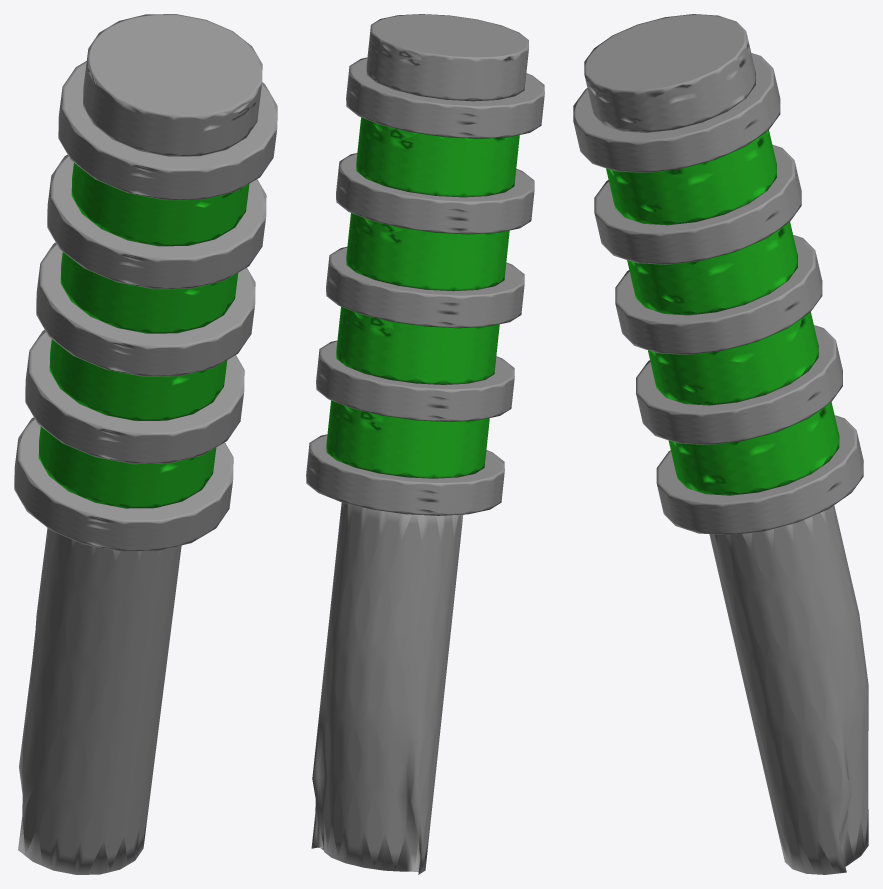
The model's file is Lampara.obj.
3 renders of one model, left to right at view 1: azimuth 30°, elevation 25°; view 2: azimuth 150°, elevation 25°; view 3: azimuth 270°, elevation 25°, orthographic. The views are drawn at different scales.
Parts seen in each view (by area): view 1: Cylinder012, Cylinder022, Cylinder021, Cylinder019, Cylinder017, Cylinder013, Cylinder015, Cylinder020, Cylinder014, Cylinder016, Cylinder018; view 2: Cylinder012, Cylinder022, Cylinder020, Cylinder014, Cylinder016, Cylinder018, Cylinder021, Cylinder013, Cylinder019, Cylinder015, Cylinder017; view 3: Cylinder012, Cylinder022, Cylinder021, Cylinder013, Cylinder019, Cylinder015, Cylinder017, Cylinder020, Cylinder014, Cylinder016, Cylinder018.
Boxes of the visible parts, box(x1,y1,x2,y2) form: Cylinder012: box(18, 528, 181, 874); Cylinder022: box(83, 14, 262, 156); Cylinder021: box(58, 61, 277, 200); Cylinder019: box(47, 154, 266, 289); Cylinder017: box(36, 242, 255, 376); Cylinder013: box(14, 417, 233, 551); Cylinder015: box(25, 330, 244, 464); Cylinder020: box(71, 163, 249, 246); Cylinder014: box(38, 426, 216, 508); Cylinder016: box(49, 339, 227, 420); Cylinder018: box(60, 252, 238, 333); Cylinder012: box(311, 502, 463, 874); Cylinder022: box(366, 14, 528, 101); Cylinder020: box(356, 117, 519, 197); Cylinder014: box(326, 400, 489, 478); Cylinder016: box(336, 306, 499, 384); Cylinder018: box(346, 213, 509, 291); Cylinder021: box(346, 57, 544, 138); Cylinder013: box(306, 434, 504, 515); Cylinder019: box(336, 153, 534, 234); Cylinder015: box(316, 340, 514, 421); Cylinder017: box(326, 247, 524, 328); Cylinder012: box(709, 505, 868, 874); Cylinder022: box(584, 14, 755, 132); Cylinder021: box(573, 53, 780, 172); Cylinder013: box(656, 415, 863, 535); Cylinder019: box(594, 144, 801, 264); Cylinder015: box(636, 325, 842, 445); Cylinder017: box(615, 235, 822, 354); Cylinder020: box(606, 130, 776, 225); Cylinder014: box(668, 402, 839, 495); Cylinder016: box(648, 312, 818, 405); Cylinder018: box(627, 222, 797, 315).
Size of the model in its own units: 22.36 by 97.57 by 31.82.
